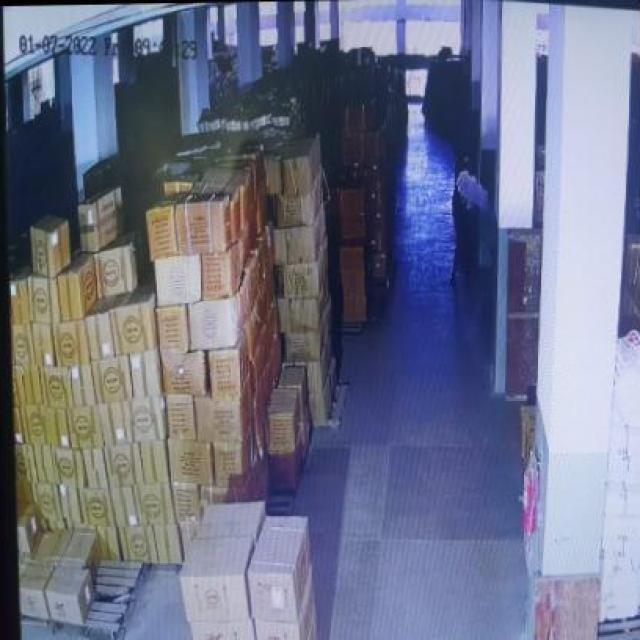fire: (452, 162, 488, 220)
